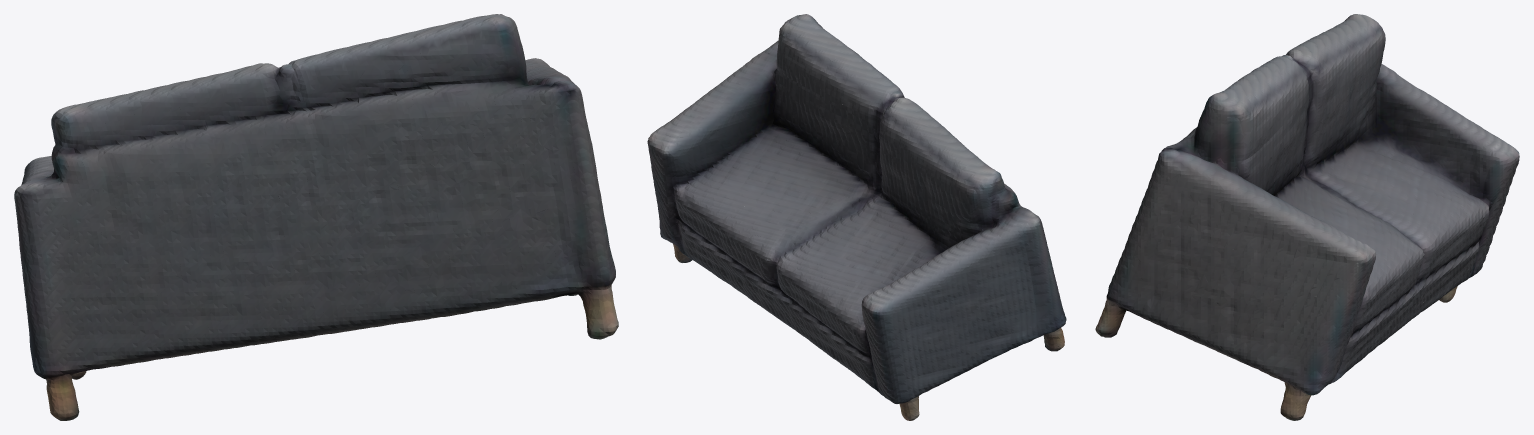
File: sofa.glb
3 renders of one model, left to right at view 1: azimuth 30°, elevation 25°; view 2: azimuth 150°, elevation 25°; view 3: azimuth 270°, elevation 25°, orthographic. The views are drawn at different scales.
Parts seen in each view (by area): view 1: geometry_0; view 2: geometry_0; view 3: geometry_0.
Boxes of the visible parts, x1,y1,x2,y2 form: geometry_0: [14, 14, 618, 420]; geometry_0: [647, 14, 1066, 420]; geometry_0: [1095, 14, 1519, 420].
Bounding box in the file's own units: 1.07 × 0.7265 × 0.8717.
